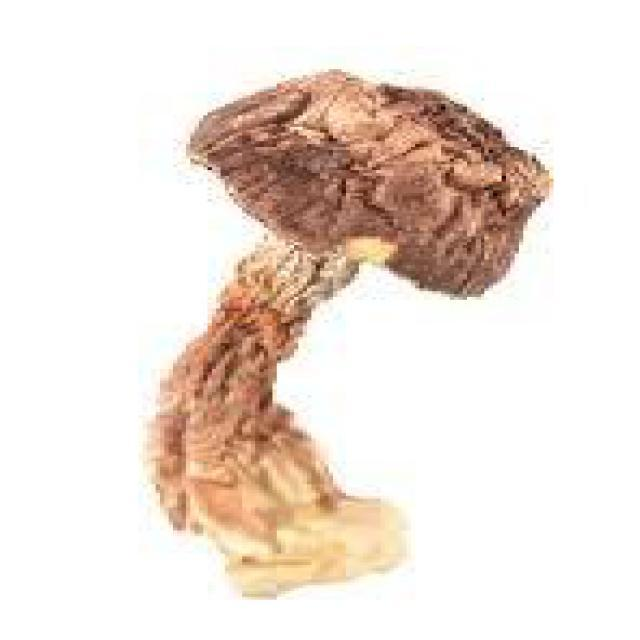Agaricus blazei Murill: (152, 77, 551, 613)
